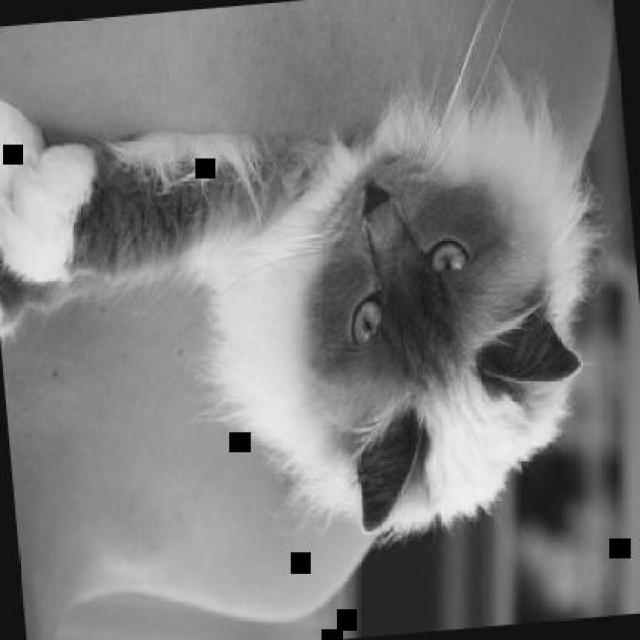cat: (0, 75, 608, 574)
